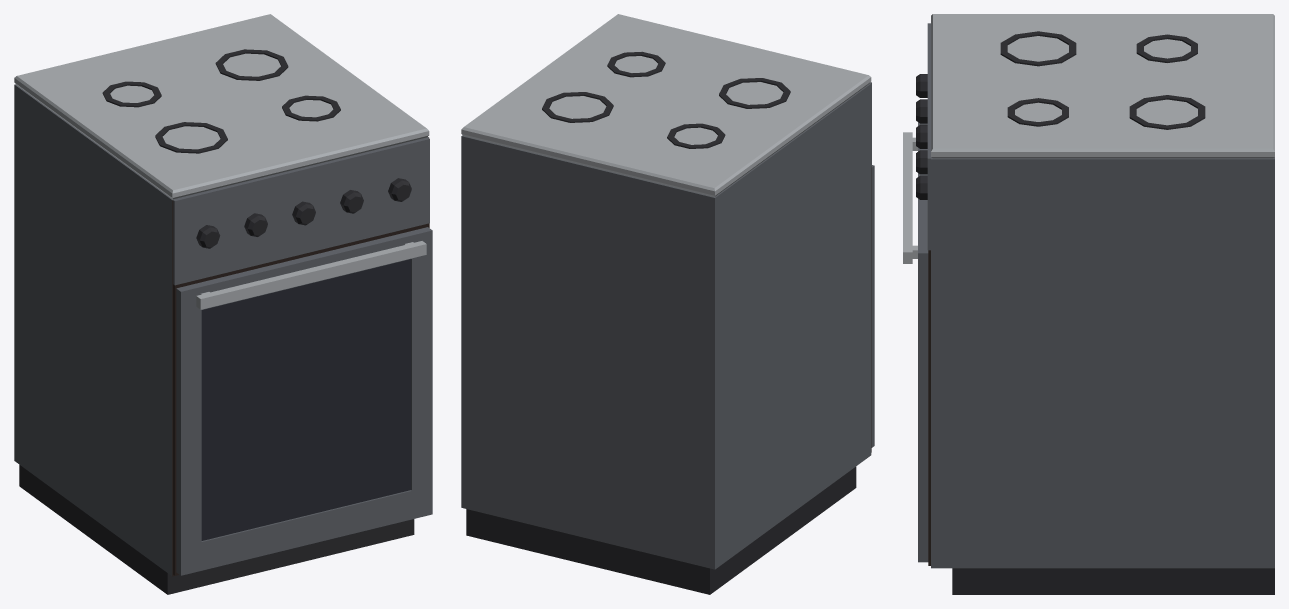
The model's file is FN_Appliance_Cooker.glb.
3 views of the same model, side by side, from view 1: azimuth 30°, elevation 25°; view 2: azimuth 150°, elevation 25°; view 3: azimuth 270°, elevation 25° (orthographic). The views are drawn at different scales.
Parts seen in each view (by area): view 1: FN_Appliance_Cooker; view 2: FN_Appliance_Cooker; view 3: FN_Appliance_Cooker.
Part boxes in pixels (<box>): FN_Appliance_Cooker: <box>14,14,432,594</box>; FN_Appliance_Cooker: <box>461,14,874,594</box>; FN_Appliance_Cooker: <box>903,14,1274,594</box>.
Bounding box in the file's own units: 0.6 × 0.923 × 0.692.
1 material, 1 textured.
